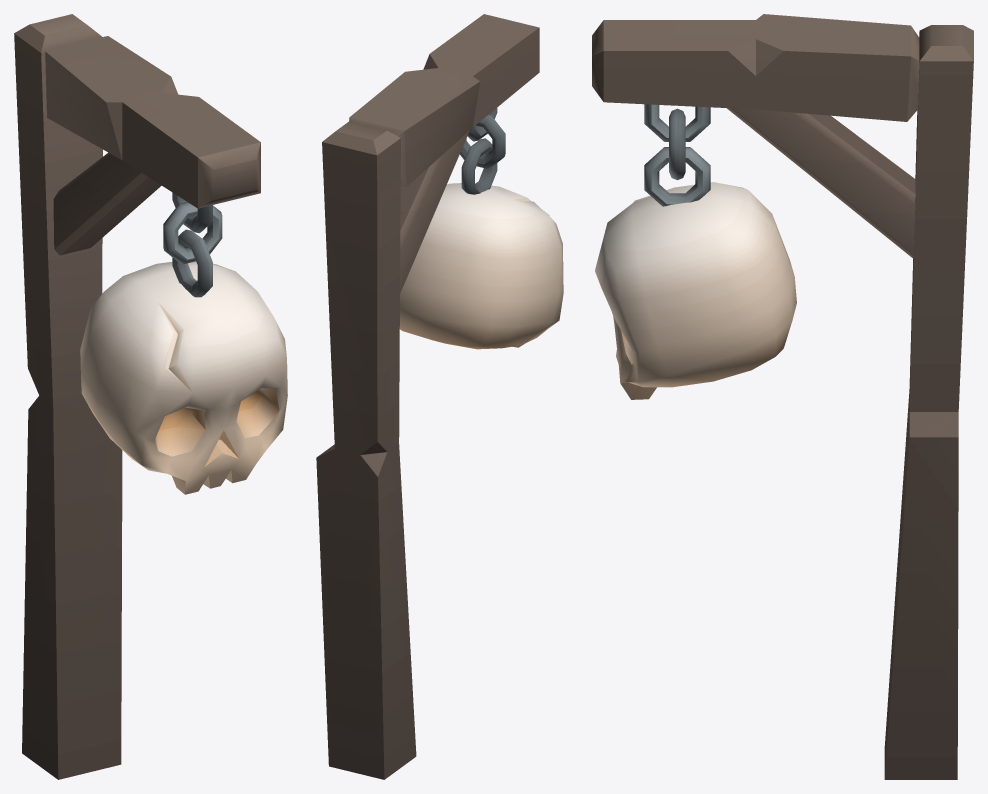
File: hb_post_skull.glb
3 views of the same model, side by side, from view 1: azimuth 30°, elevation 25°; view 2: azimuth 150°, elevation 25°; view 3: azimuth 270°, elevation 25° (orthographic). The views are drawn at different scales.
Parts seen in each view (by area): view 1: post_skull, post_skull_skull; view 2: post_skull, post_skull_skull; view 3: post_skull, post_skull_skull.
Boxes of the visible parts, x1,y1,x2,y2 form: post_skull: (14, 14, 260, 779); post_skull_skull: (80, 192, 287, 494); post_skull: (316, 14, 539, 779); post_skull_skull: (399, 108, 563, 349); post_skull: (592, 14, 973, 779); post_skull_skull: (595, 104, 796, 399).
Bounding box in the file's own units: 0.4904 × 2 × 0.9493.
Materials: 1 (1 with a texture image).
